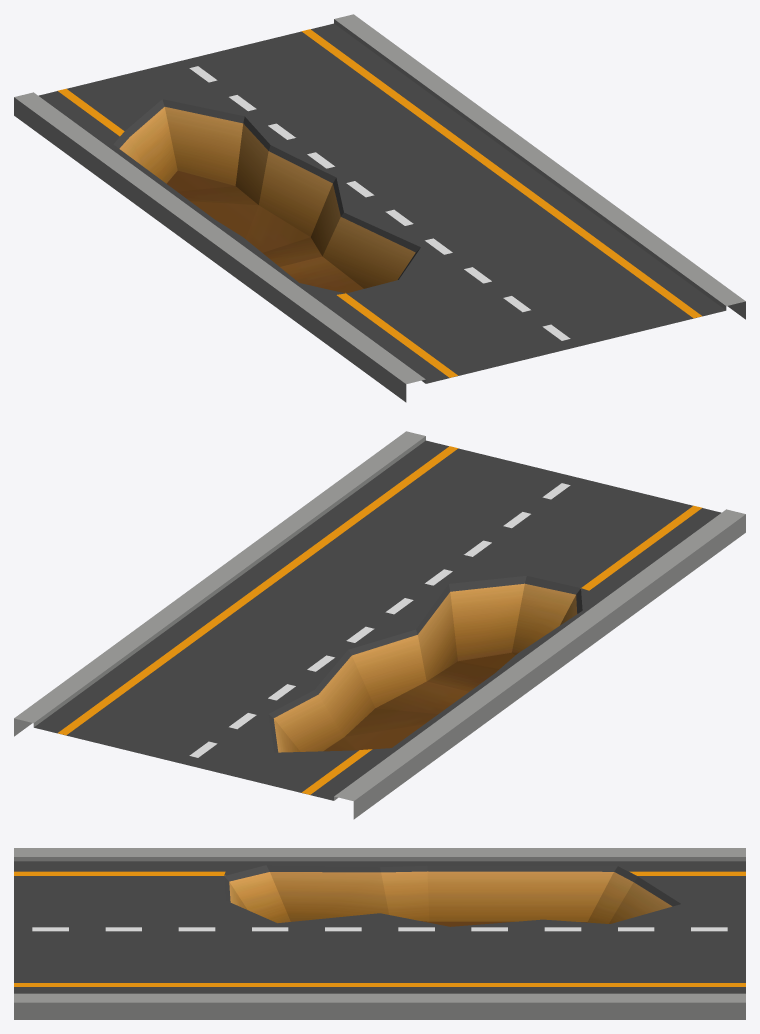
File: Road_A_3.fbx
3 renders of one model, top to bottom at view 1: azimuth 30°, elevation 25°; view 2: azimuth 150°, elevation 25°; view 3: azimuth 270°, elevation 25°, orthographic. The views are drawn at different scales.
Parts seen in each view (by area): view 1: Road_A_3; view 2: Road_A_3; view 3: Road_A_3.
Boxes of the visible parts, x1,y1,x2,y2 form: Road_A_3: (14, 14, 745, 402); Road_A_3: (14, 431, 745, 819); Road_A_3: (14, 848, 745, 1019).
Size of the model in its own units: 800 by 147 by 1600.
